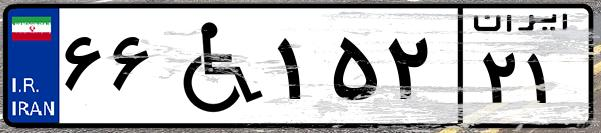1: (270, 28, 330, 110), (525, 38, 570, 115)
2: (385, 28, 445, 110), (475, 38, 525, 113)
5: (330, 28, 385, 110)
6: (57, 26, 110, 100), (110, 28, 158, 98)
ژ (معلولین و جانبازان): (158, 12, 270, 120)
